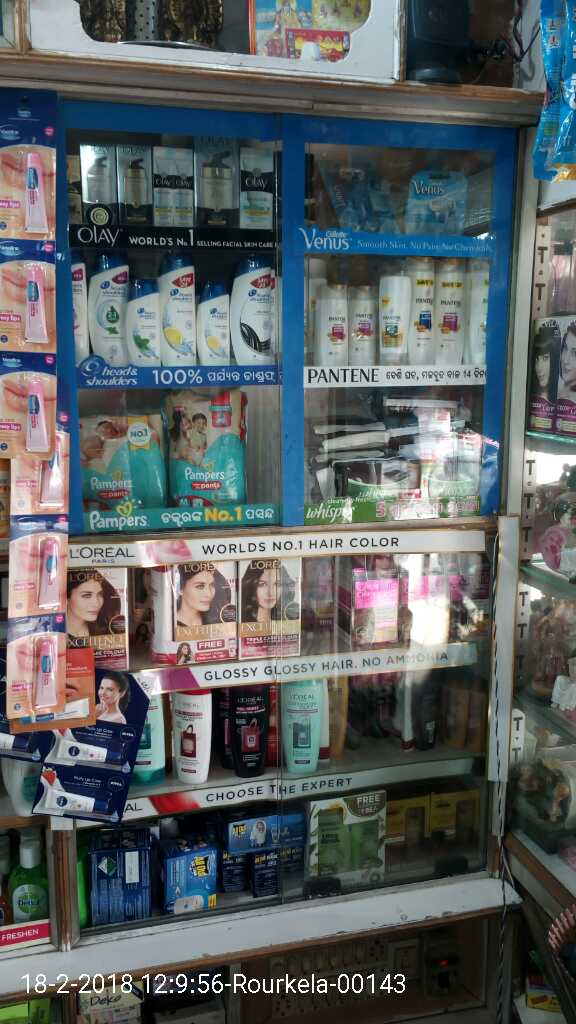venus: (405, 169, 476, 229), (328, 162, 387, 234)
